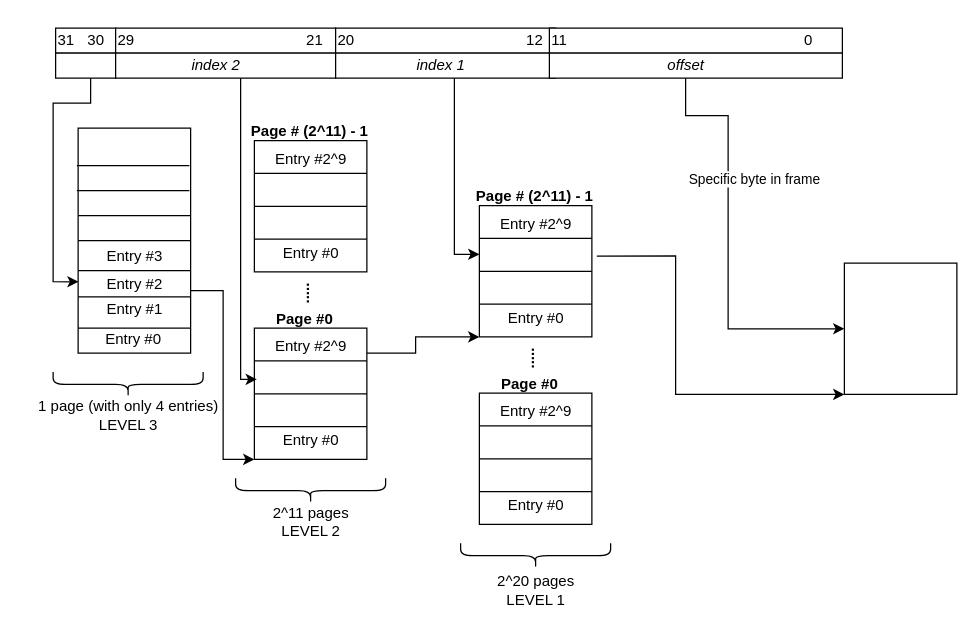
Some shapes in this 979 by 636 pixel diagram are drawn without their labels. Each missing label, with the box of its shape:
FRAME: (843, 262, 957, 394)
index 3: (54, 52, 116, 78)
